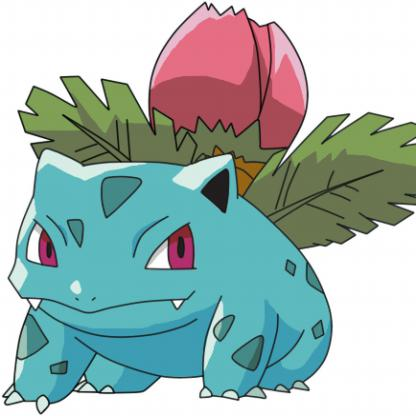Ivysaur: (10, 12, 416, 416)
